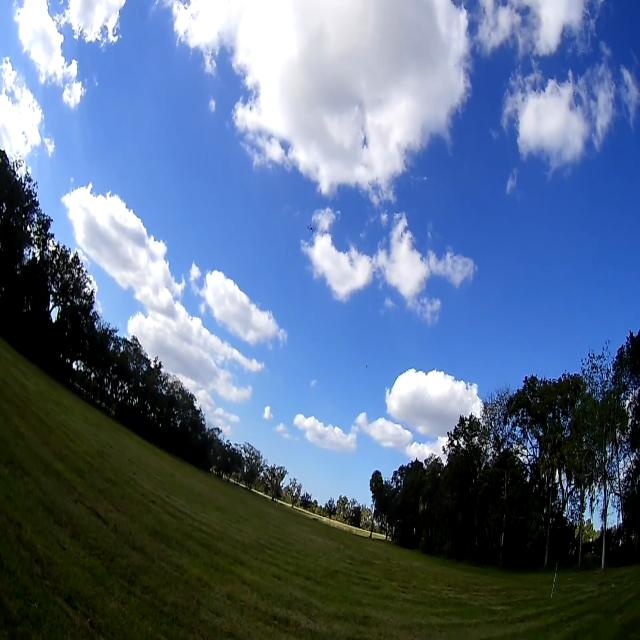drone: (301, 214, 320, 238)
